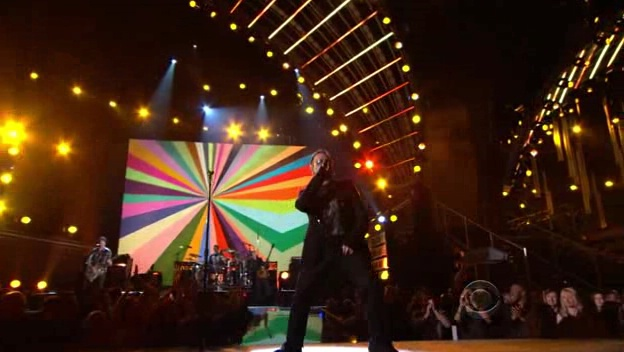person: (298, 148, 365, 269), (295, 148, 362, 269), (301, 148, 368, 269), (298, 145, 365, 266), (298, 151, 365, 272)
target_negative: (8, 239, 513, 253), (354, 326, 529, 352), (558, 190, 589, 331), (570, 136, 588, 347), (21, 218, 164, 241), (561, 80, 616, 126)
